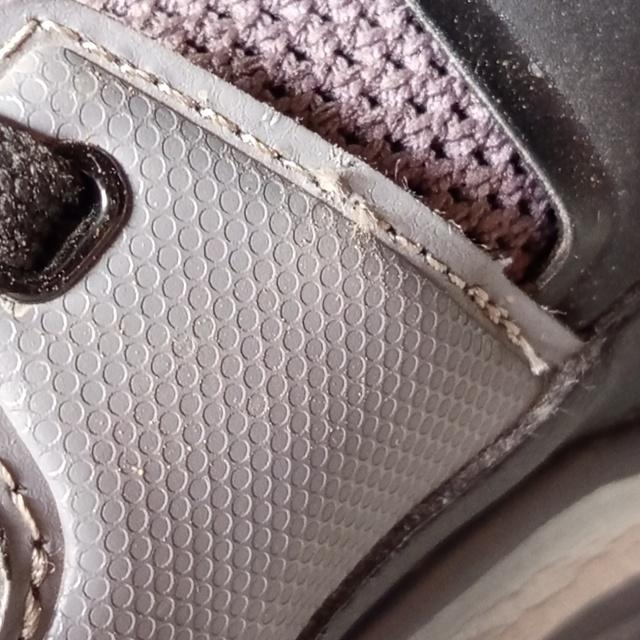broken-error: (319, 160, 381, 238)
